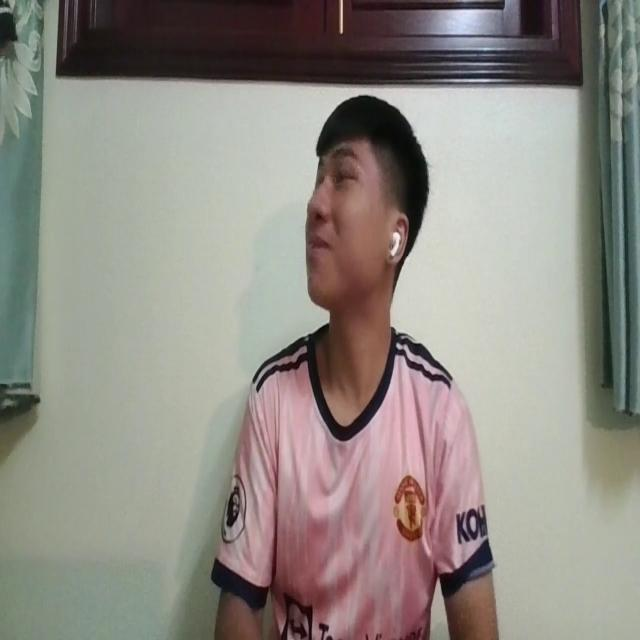student: (213, 83, 498, 640)
